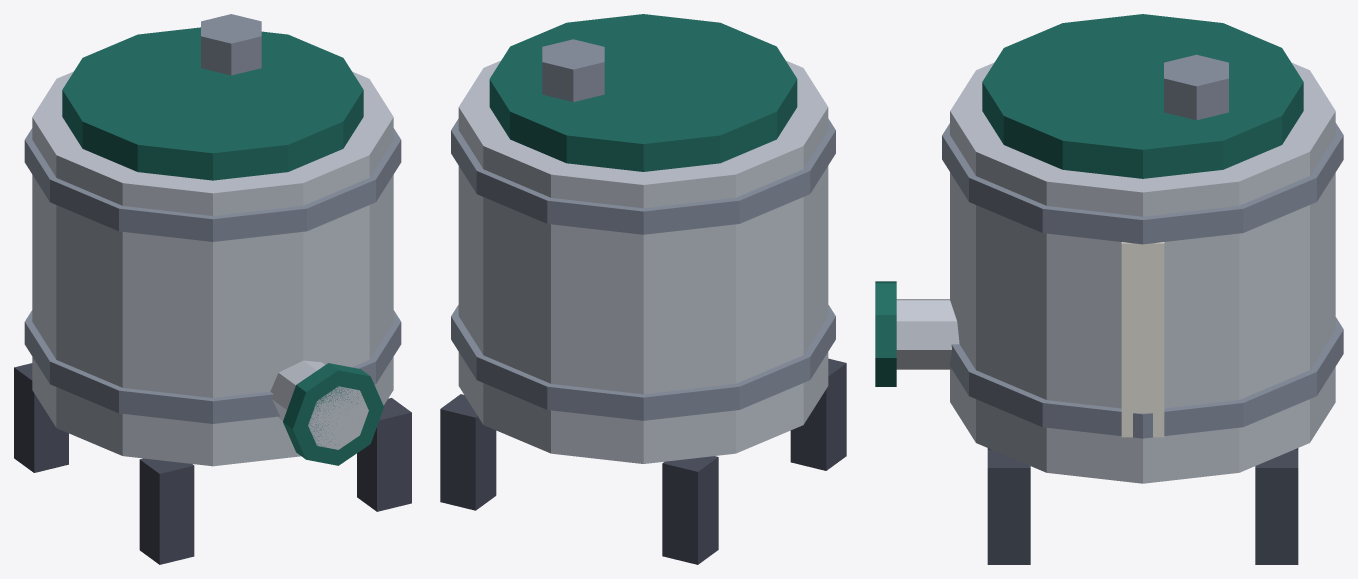
The model's file is tank.glb.
The picture shows the model from 3 angles, left to right: view 1: azimuth 30°, elevation 25°; view 2: azimuth 150°, elevation 25°; view 3: azimuth 270°, elevation 25°; orthographic projection. The views are drawn at different scales.
Parts seen in each view (by area): view 1: tank; view 2: tank; view 3: tank.
Part boxes in pixels (box(x1,y1,x2,y2)): tank: box(14, 14, 411, 564); tank: box(440, 14, 846, 564); tank: box(875, 14, 1343, 564).
Bounding box in the file's own units: 0.75 × 0.93 × 0.875.
1 material, 1 textured.
